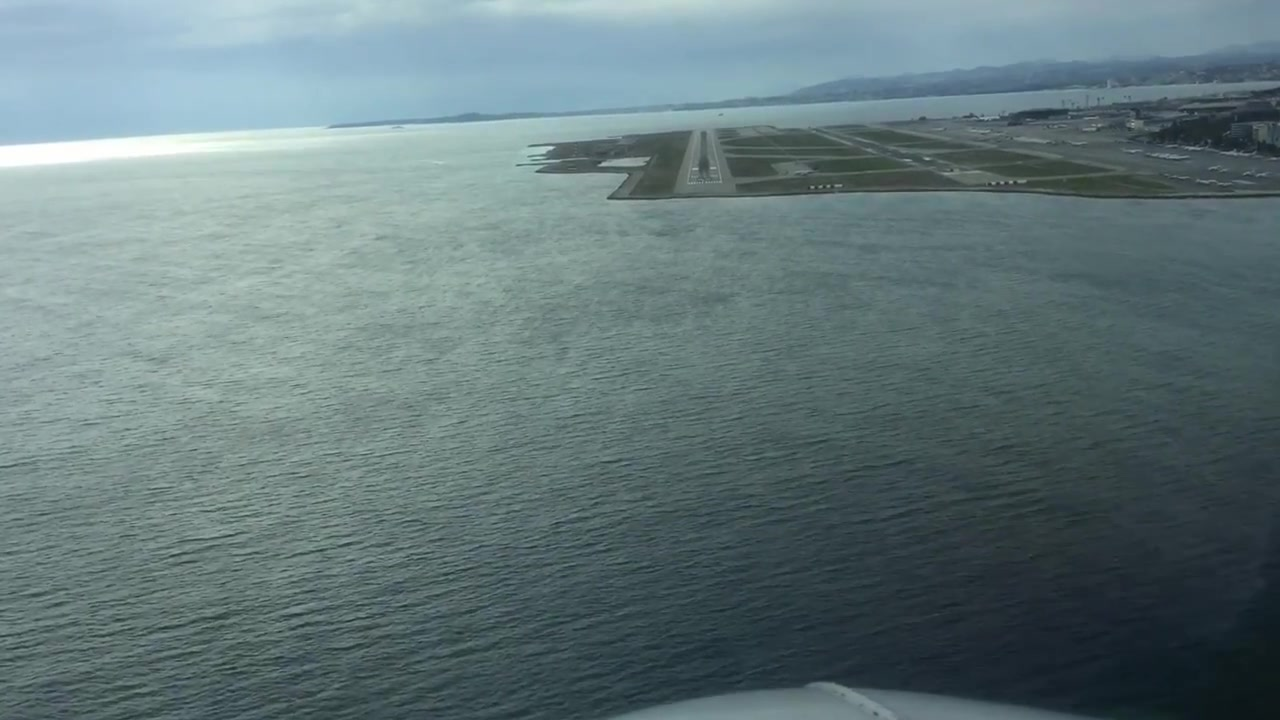entrance: (689, 179, 720, 184)
runway: (812, 131, 982, 174), (673, 129, 736, 195)
